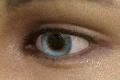eye: (41, 32, 72, 55)
